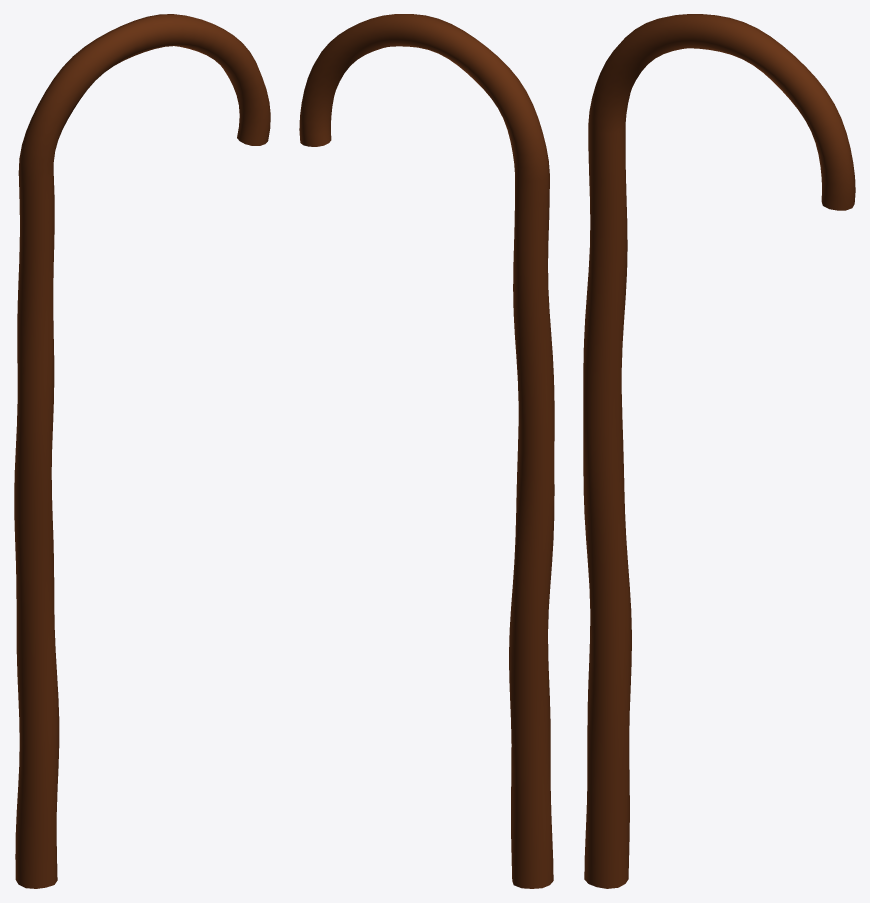
Rendered from ShepherdsCrook.obj.
3 renders of one model, left to right at view 1: azimuth 30°, elevation 25°; view 2: azimuth 150°, elevation 25°; view 3: azimuth 330°, elevation 25°, orthographic. The views are drawn at different scales.
Parts seen in each view (by area): view 1: ShepherdsCrook; view 2: ShepherdsCrook; view 3: ShepherdsCrook.
Boxes of the visible parts, x1,y1,x2,y2 form: ShepherdsCrook: [14, 14, 270, 888]; ShepherdsCrook: [299, 14, 554, 888]; ShepherdsCrook: [583, 14, 855, 888].
Size of the model in its own units: 0.5651 by 1.8 by 0.0866.
